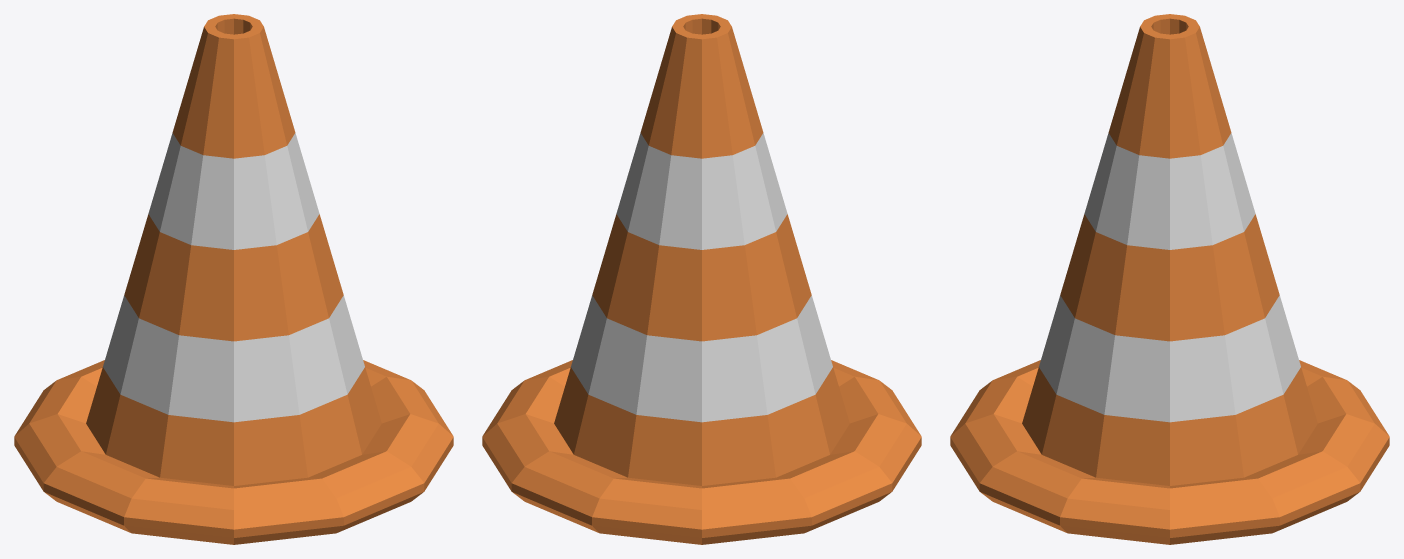
3 renders of one model, left to right at view 1: azimuth 30°, elevation 25°; view 2: azimuth 150°, elevation 25°; view 3: azimuth 270°, elevation 25°, orthographic.
Parts seen in each view (by area): view 1: Cone A; view 2: Cone A; view 3: Cone A.
Part boxes in pixels (left/top/right/bottom): Cone A: left=14, top=14, right=453, bottom=544; Cone A: left=482, top=14, right=921, bottom=544; Cone A: left=950, top=14, right=1389, bottom=544.
Size of the model in its own units: 55.72 by 60.38 by 55.72.
